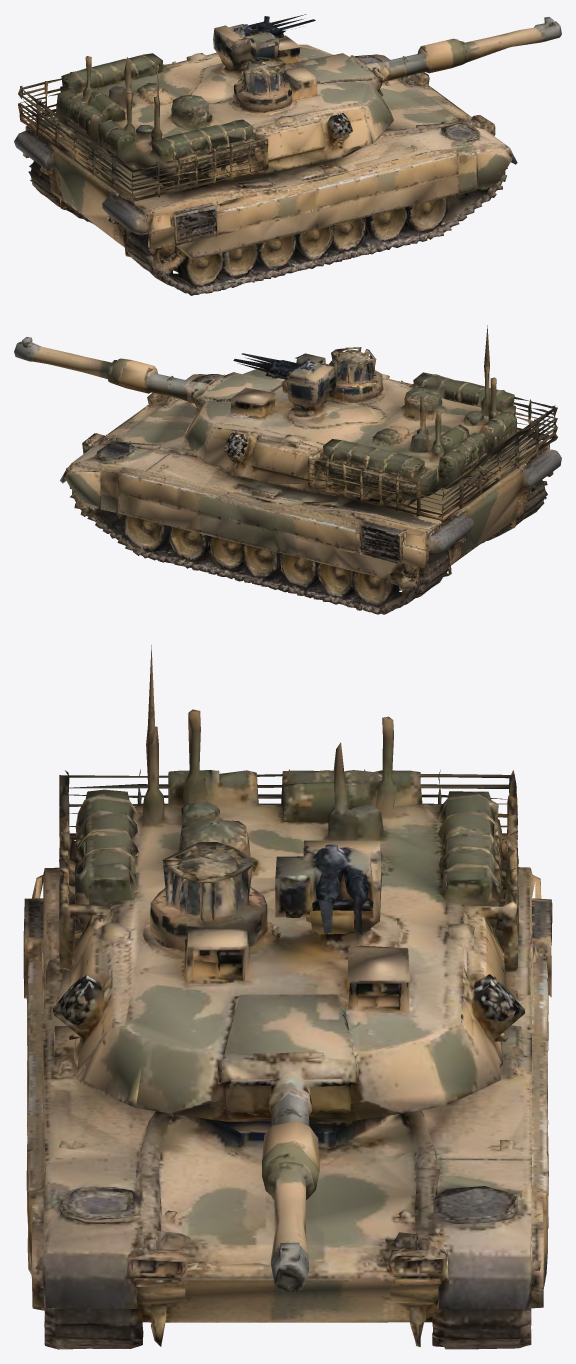
The model's file is tank_sep.glb.
3 renders of one model, top to bottom at view 1: azimuth 30°, elevation 25°; view 2: azimuth 150°, elevation 25°; view 3: azimuth 270°, elevation 25°, orthographic. The views are drawn at different scales.
Parts seen in each view (by area): view 1: geometry_0; view 2: geometry_0; view 3: geometry_0.
Boxes of the visible parts, <box> form: geometry_0: <box>14,14,561,295</box>; geometry_0: <box>14,325,561,614</box>; geometry_0: <box>23,645,552,1349</box>.
Size of the model in its own units: 1.1 by 0.4911 by 0.518.
Materials: 1 (1 with a texture image).
